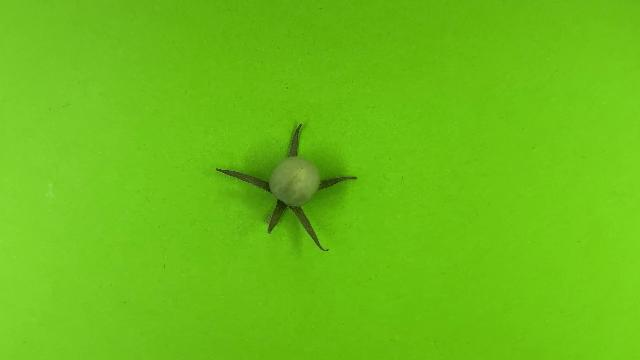Fruit Maturation: (268, 155, 322, 207)
